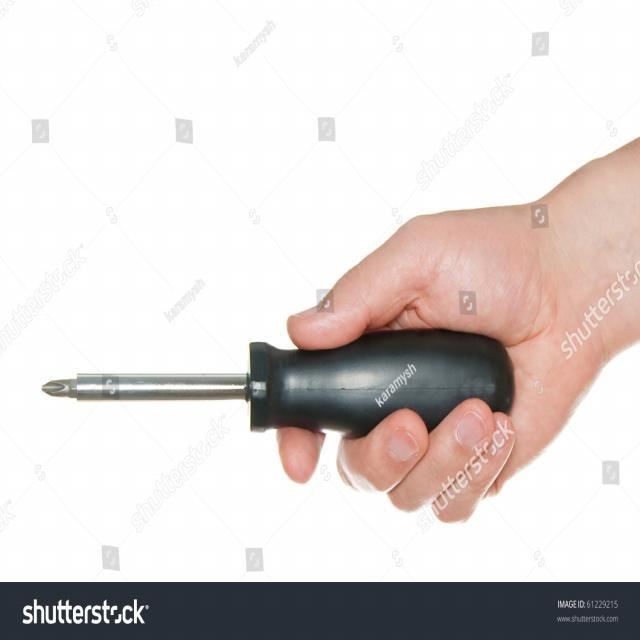screwdriver: (38, 321, 519, 438)
